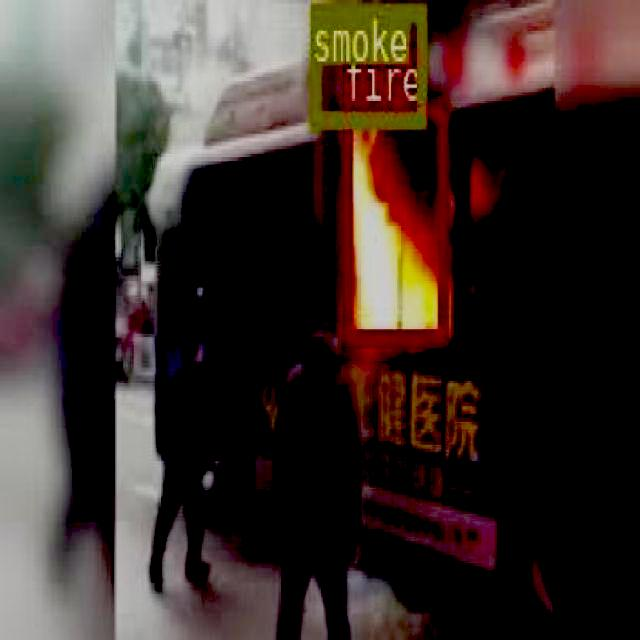fire: (342, 102, 446, 342)
smoke: (308, 1, 424, 125)
